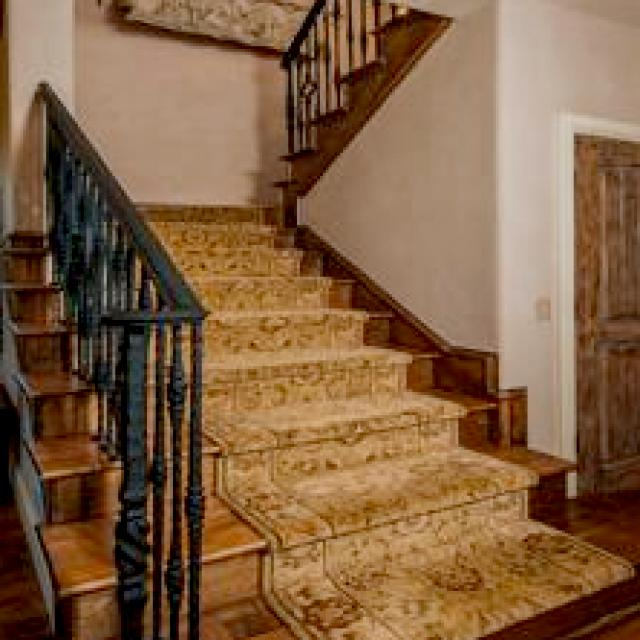upstair: (243, 430, 640, 640)
